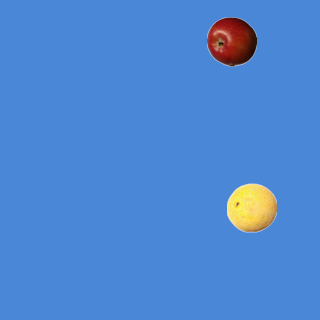Apple Braeburn: (206, 16, 256, 66)
Cantaloupe 1: (226, 182, 276, 232)
